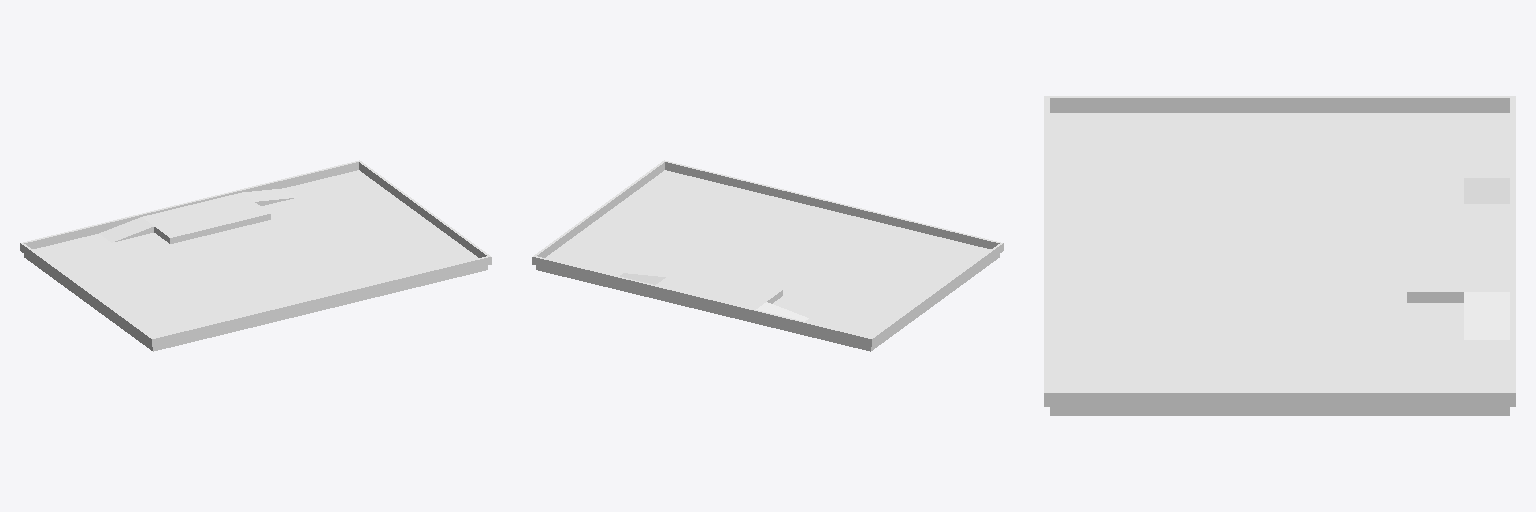
robot.urdf — obj_model:
<?xml version="1.0" ?>
<robot name="obj_model">

  <!-- Link that contains the object -->
  <link name="rendered_table">
    <!-- Visual Shape: 3D mesh from the .obj file -->
    <visual>
      <geometry>
        <mesh filename="table.obj"/>  <!-- Path to the .obj file -->
      </geometry>
      <material name="default_material">
        <color rgba="1 1 1 1"/>  <!-- You can set the default color if no texture is available -->
      </material>
    </visual>
    
    <!-- Inertial properties: Mass and Inertia -->
    <inertial>
	  <mass value="1000.0"/>  <!-- Set a realistic mass for the table -->
      <inertia ixx="0.2" ixy="0.0" ixz="0.0" iyy="0.2" iyz="0.0" izz="0.2"/>
    </inertial>
  </link>
  
  <link name="table_base">
    <collision>
      <geometry>
        <box size="3.0 2.0 0.05"/>
      </geometry>
    </collision>
	<visual>
	  <geometry>
        <box size="0 0 0"/>
      </geometry>
	</visual>
  </link>
  
  <link name="border_front">
    <collision>
      <geometry>
        <box size="3.0 0.022 0.07"/>
      </geometry>
    </collision>
	<visual>
	  <geometry>
        <box size="0 0 0"/>
      </geometry>
	</visual>
  </link>
  
  <link name="border_back">
    <collision>
      <geometry>
        <box size="3.0 0.022 0.07"/>
      </geometry>
    </collision>
	<visual>
	  <geometry>
        <box size="0 0 0"/>
      </geometry>
	</visual>
  </link>
  
  <link name="border_left">
    <collision>
      <geometry>
        <box size="0.022 2.0 0.07"/>
      </geometry>
    </collision>
	<visual>
	  <geometry>
        <box size="0 0 0"/>
      </geometry>
	</visual>
  </link>
  
  <link name="border_right">
    <collision>
      <geometry>
        <box size="0.022 2.0 0.07"/>
      </geometry>
    </collision>
	<visual>
	  <geometry>
        <box size="0 0 0"/>
      </geometry>
	</visual>
  </link>
  
  <link name="scene">
    <collision>
      <geometry>
        <box size="0.9 0.45 0.055"/>
      </geometry>
    </collision>
	<visual>
	  <geometry>
        <box size="0 0 0"/>
      </geometry>
	</visual>
  </link>
  
  <link name="ramps">
	<visual>
		<geometry>
			<mesh filename="rampes.obj"/>  <!-- Path to the .obj file -->
		</geometry>
		<material name="default_material">
			<color rgba="1 1 1 1"/>  <!-- You can set the default color if no texture is available -->
		</material>
    </visual>
	<collision>
      <geometry>
		<mesh filename="rampes.obj"/>
      </geometry>
    </collision>
  </link>
  
  <!-- Fixer les bordures à la table -->
  <joint name="rendered_to_base" type="fixed">
    <parent link="table_base"/>
    <child link="rendered_table"/>
    <origin rpy="1.5708 0 0" xyz="0 0 0"/> <!-- 1.5708 radians = 90° -->
  </joint>
  
  <joint name="base_to_border_front" type="fixed">
    <parent link="table_base"/>
    <child link="border_front"/>
    <origin rpy="0 0 0" xyz="0 1.011 0.06"/>
  </joint>

  <joint name="base_to_border_back" type="fixed">
    <parent link="table_base"/>
    <child link="border_back"/>
    <origin rpy="0 0 0" xyz="0 -1.011 0.06"/>
  </joint>

  <joint name="base_to_border_left" type="fixed">
    <parent link="table_base"/>
    <child link="border_left"/>
    <origin rpy="0 0 0" xyz="-1.511 0 0.06"/>
  </joint>

  <joint name="base_to_border_right" type="fixed">
    <parent link="table_base"/>
    <child link="border_right"/>
    <origin rpy="0 0 0" xyz="1.511 0 0.06"/>
  </joint>
  
  <joint name="base_to_scene" type="fixed">
    <parent link="table_base"/>
    <child link="scene"/>
    <origin rpy="0 0 0" xyz="0 0.775 0.05"/>
  </joint>
  
  <joint name="base_to_ramps" type="fixed">
    <parent link="table_base"/>
    <child link="ramps"/>
    <origin rpy="1.5708 0 0" xyz="0 0 0"/>
  </joint>

	<!-- Fix table (no gravity) -->
	<link name="world" />
	<joint name="world_to_base_link" type="fixed">
	  <parent link="world" />
	  <child link="table_base" />
	</joint>

</robot>

--- Facts derived from the render (not from the file) ---
Views: 3 orthographic renders of the robot side by side, from view 1: azimuth 30°, elevation 25°; view 2: azimuth 150°, elevation 25°; view 3: azimuth 270°, elevation 25°.
Model obj_model with 9 links and 8 joints (8 fixed), rooted at world, posed every joint at zero.
Visible links, largest first — view 1: rendered_table, ramps; view 2: rendered_table, ramps; view 3: rendered_table, ramps.
Boxes of the visible links, left/top/right/bottom form: rendered_table: left=20, top=160, right=491, bottom=351; ramps: left=99, top=188, right=296, bottom=242; rendered_table: left=532, top=160, right=1003, bottom=351; ramps: left=620, top=273, right=808, bottom=321; rendered_table: left=1044, top=96, right=1515, bottom=415; ramps: left=1464, top=178, right=1509, bottom=339.
Bounding box of the posed robot: 3.04 × 2.04 × 0.12 m (x, y, z).
Meshes: 2 distinct files referenced, 2 mesh visuals loaded (2 OBJ).